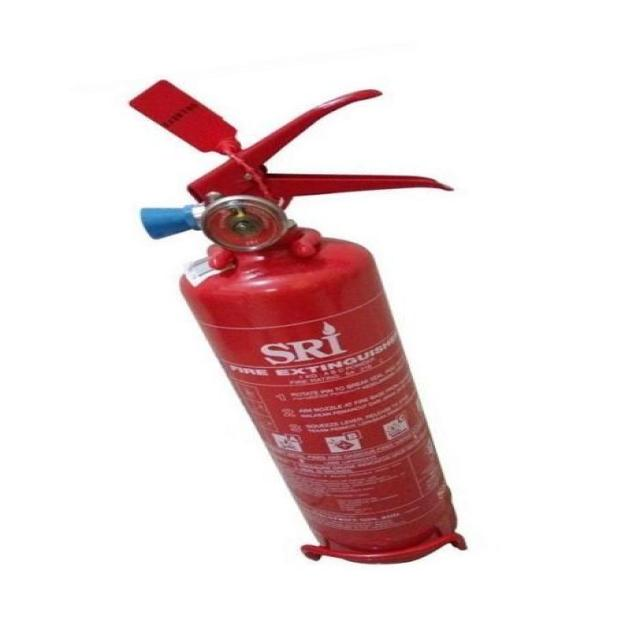fire_extinguisher: (121, 75, 467, 567)
